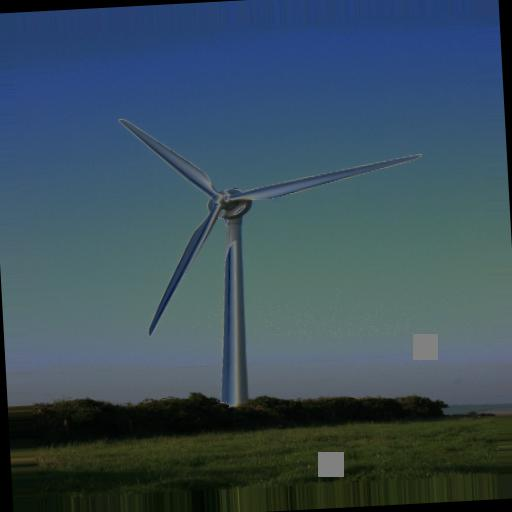wind turbine: (119, 115, 423, 404)
